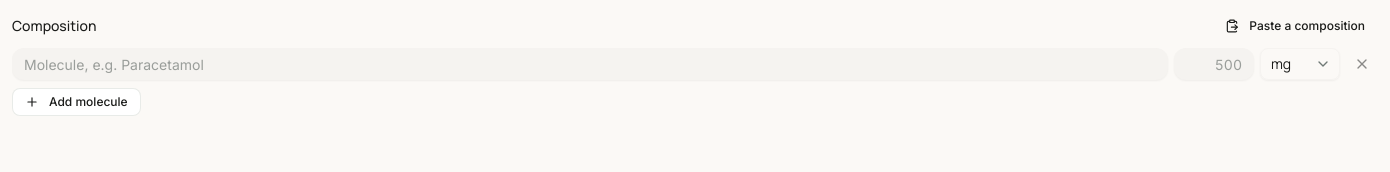
the molecule box › flags a molecule nobody has scheduled yet
Click the field named "Molecule 1".
click(590, 64)  # box [12,48,1168,80]
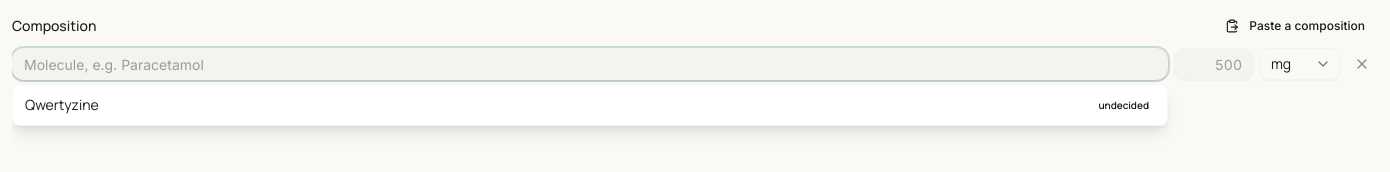
Expected: the text "undecided" is shown, [1098,98,1149,112]
